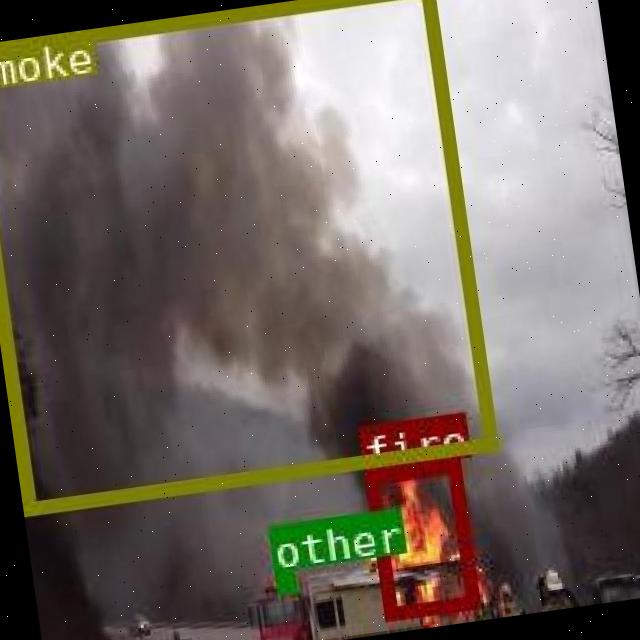fire: (363, 458, 478, 619)
smoke: (0, 0, 496, 514)
